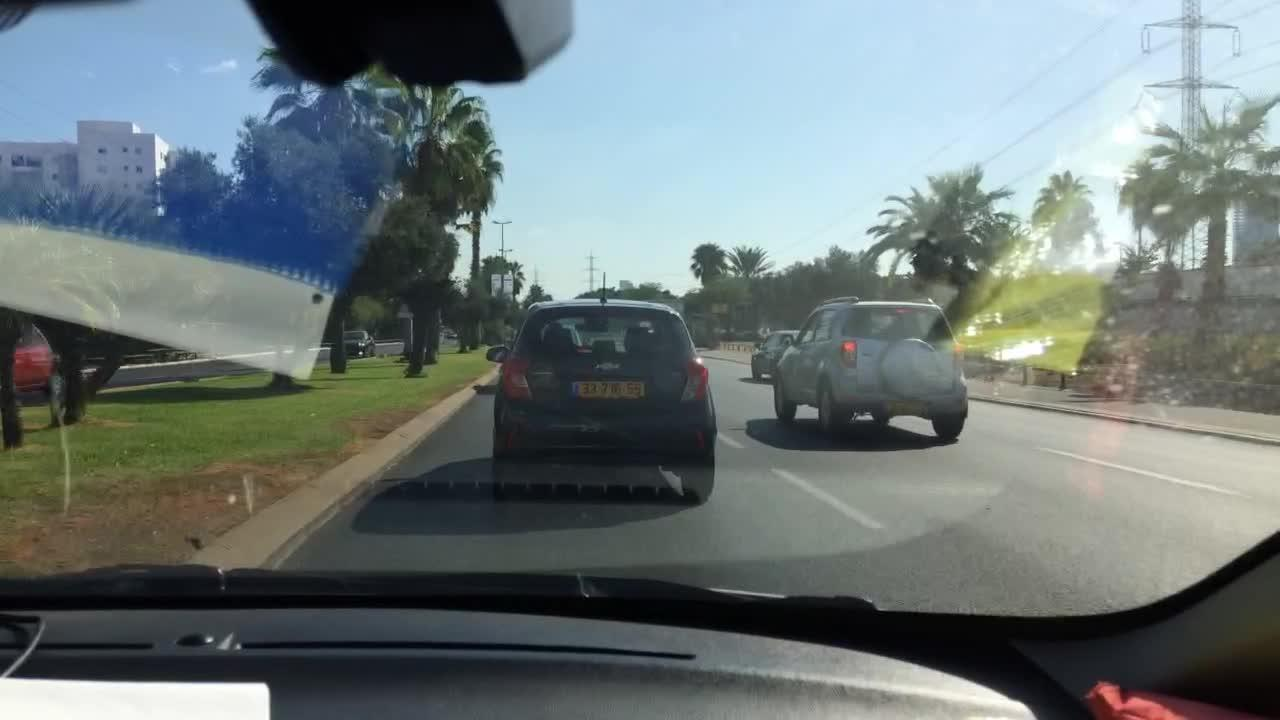chevrolet: (587, 355, 631, 381)
